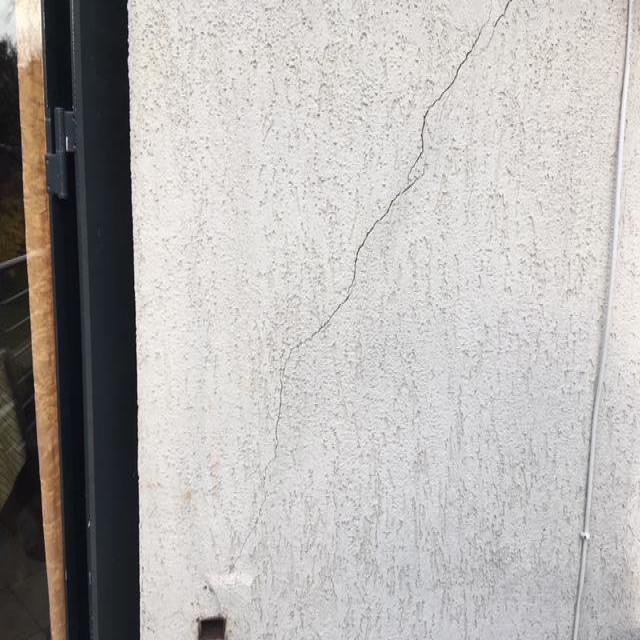crack: (262, 166, 427, 489), (407, 16, 489, 177), (234, 492, 276, 561)
